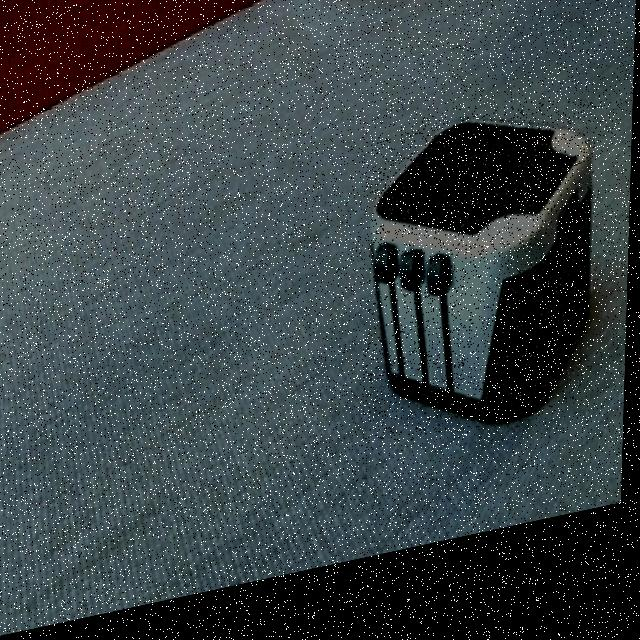adapter: (365, 115, 598, 469)
